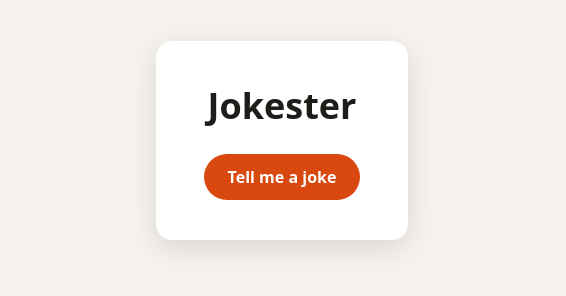
shows error on 502 JSON
Click the button "Tell me a joke": (282, 176) [204,154,360,200]
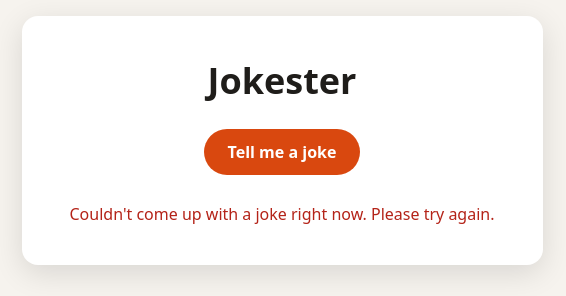
Result: the message reads "Couldn't come up with a joke right now. Please try again." at [70,202,494,224]
